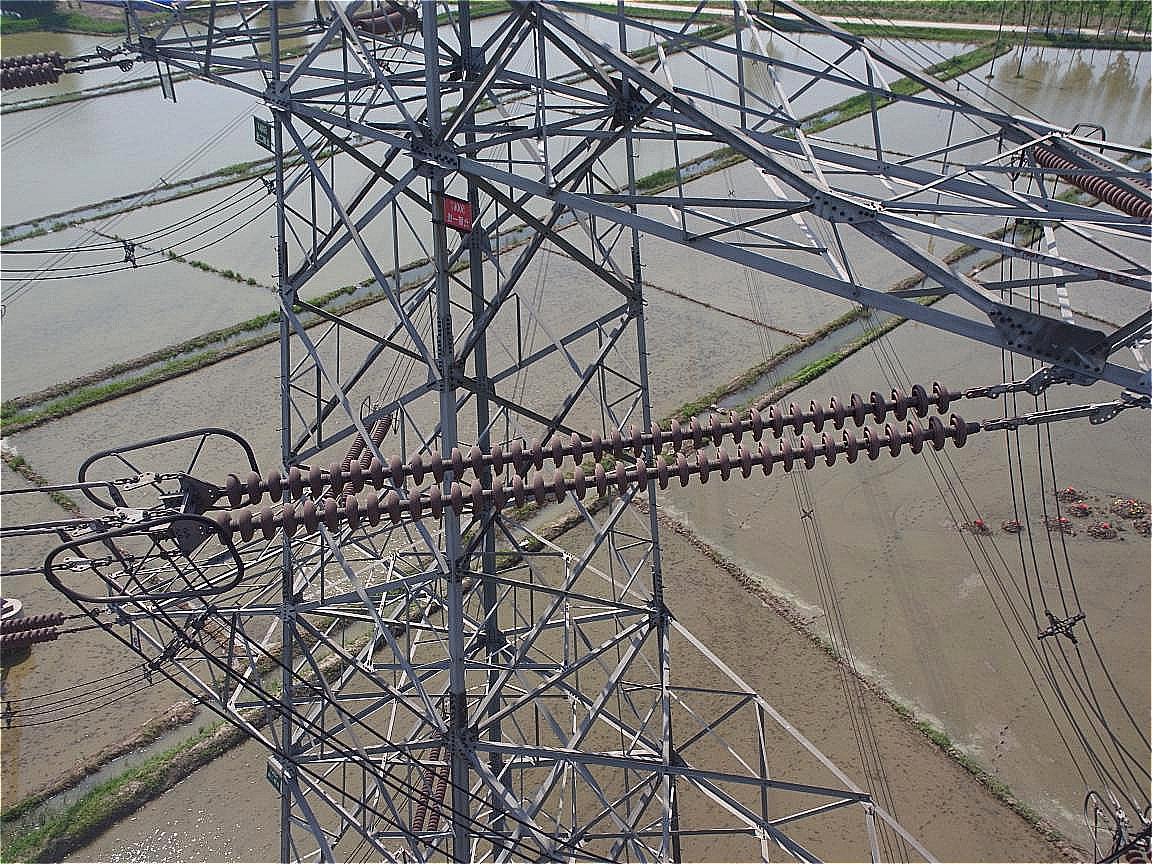insultor1: (215, 379, 970, 546)
